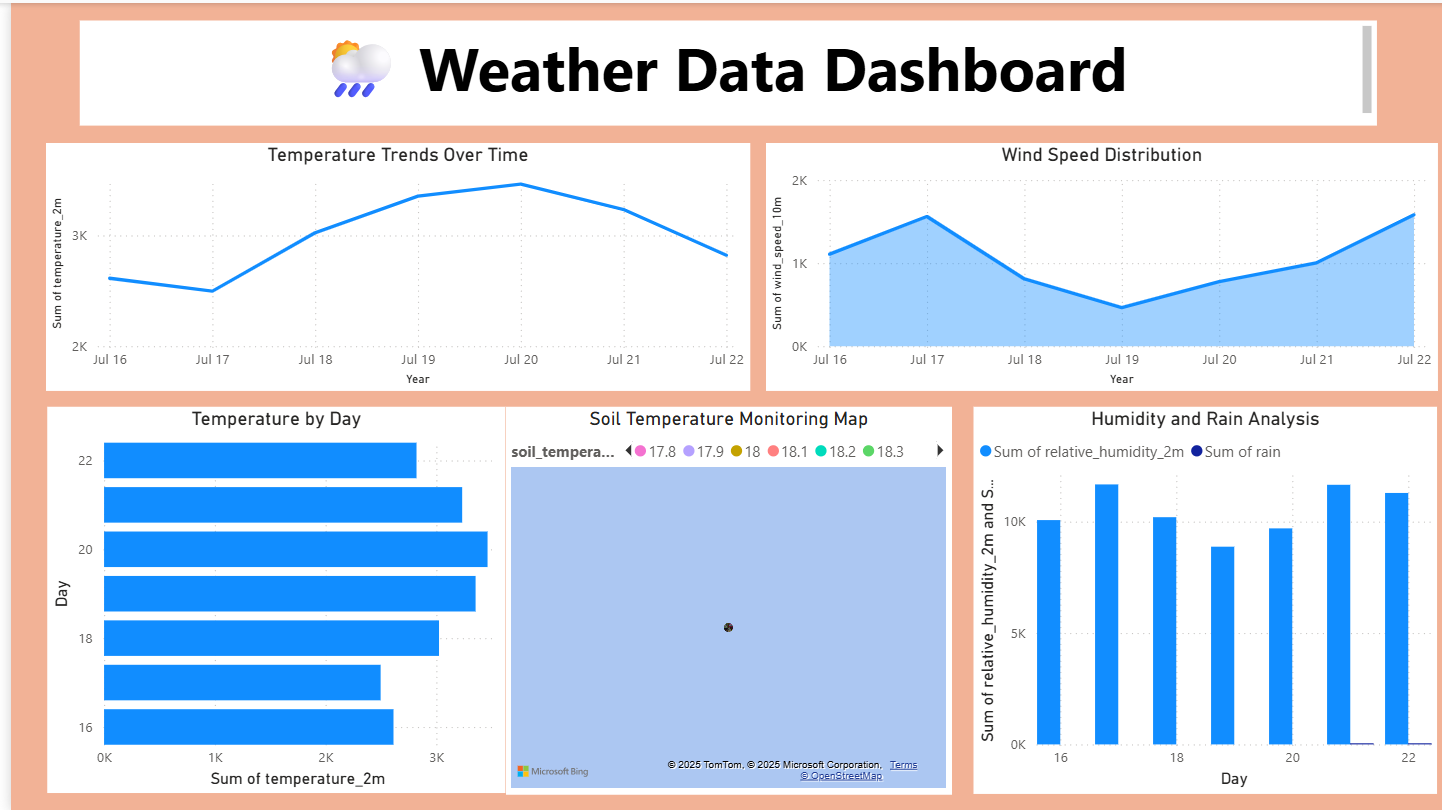

This screenshot's page, from the dashboard's own definition file:
{"tool":"powerbi","page":{"name":"Page 1","canvas":[1280,720],"ordinal":0},"visuals":[{"type":"textbox","box":[61.7,15.1,1155.4,93.3],"z":0},{"type":"lineChart","title":"Temperature Trends Over Time","fields":{"Y":["Sum(Sheet1.temperature_2m)"],"Category":["Sheet1.time.Variation.Date Hierarchy.Year","Sheet1.time.Variation.Date Hierarchy.Quarter","Sheet1.time.Variation.Date Hierarchy.Month","Sheet1.time.Variation.Date Hierarchy.Day"]},"box":[31.6,124.9,627.1,220.9],"z":1000},{"type":"clusteredColumnChart","title":"Humidity and Rain Analysis","fields":{"Category":["Sheet1.time.Variation.Date Hierarchy.Day"],"Y":["Sum(Sheet1.relative_humidity_2m)","Sum(Sheet1.rain)"]},"box":[857.6,359.5,413,344.4],"z":2000},{"type":"areaChart","title":"Wind Speed Distribution","fields":{"Y":["Sum(Sheet1.wind_speed_10m)"],"Category":["Sheet1.time.Variation.Date Hierarchy.Year","Sheet1.time.Variation.Date Hierarchy.Quarter","Sheet1.time.Variation.Date Hierarchy.Month","Sheet1.time.Variation.Date Hierarchy.Day"]},"box":[672.4,124.9,598.3,220.9],"z":3000},{"type":"map","title":"Soil Temperature Monitoring Map","fields":{"X":["Sheet1.latitude"],"Y":["Sheet1.longitude"],"Series":["Sheet1.soil_temperature_6cm"]},"box":[440.5,359.5,396.6,344.4],"z":4000},{"type":"barChart","title":"Temperature by Day","fields":{"Category":["Sheet1.time.Variation.Date Hierarchy.Day"],"Y":["Sum(Sheet1.temperature_2m)"]},"box":[32,360,408,344],"z":5000}]}

Visuals, with their boxes in screenshot pixels (x1, y1, x2, y2), scaled from the page's 1280x720 canvas onto the 1442x810 screenshot:
textbox: [70,17,1371,122]
"Temperature Trends Over Time" lineChart: [36,141,742,389]
"Humidity and Rain Analysis" clusteredColumnChart: [966,404,1431,792]
"Wind Speed Distribution" areaChart: [758,141,1432,389]
"Soil Temperature Monitoring Map" map: [496,404,943,792]
"Temperature by Day" barChart: [36,405,496,792]
